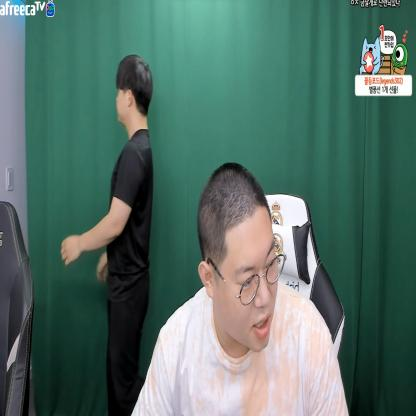donation: (354, 24, 415, 98)
streamer: (130, 162, 348, 416), (61, 55, 152, 416)
